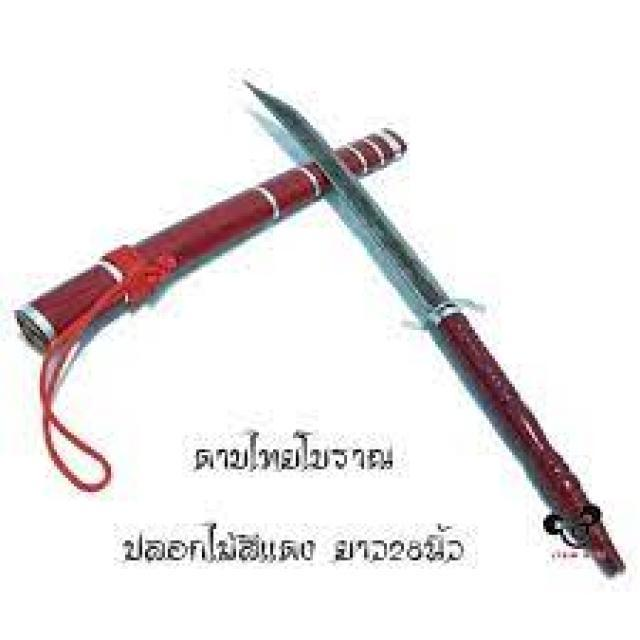long sword: (242, 73, 628, 585)
